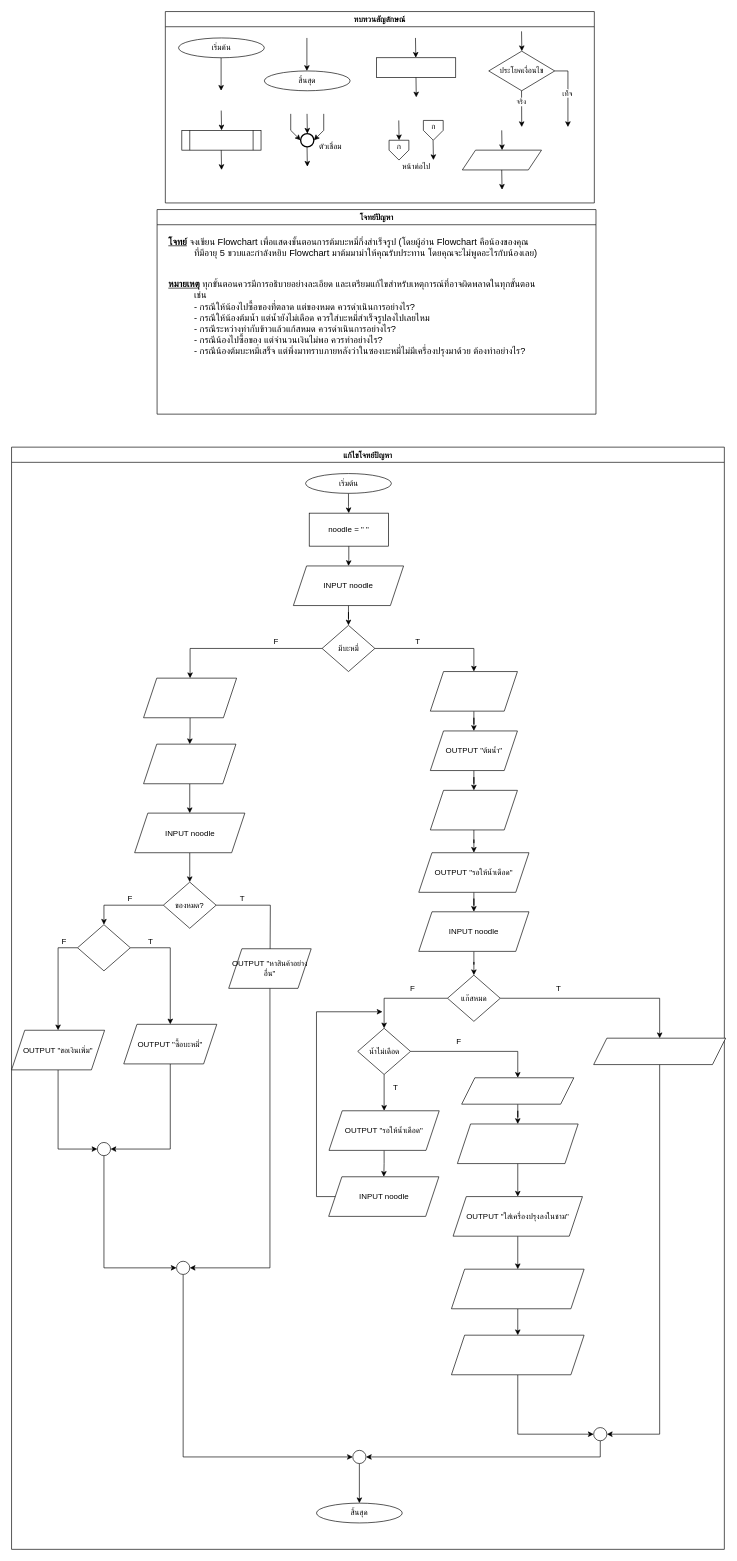
The diagram is 737 pixels wide and 1561 high, and some of its shapes have lost their labels. Here are the shapes that lost their labels. From the top down, the centre of each, then its label:
[416,67]: กระบวนการ
[221,140]: ฟังก์ชัน/โมดูล
[502,159]: แสดงผล/รับค่า
[190,697]: OUTPUT "ขอเงินจากผู้ใหญ่"
[473,691]: OUTPUT "เติมน้ำ"
[189,763]: OUTPUT "ไปซื้อของที่ตลาด"
[473,810]: OUTPUT "เปิดแก๊ส"
[103,947]: เงินพอ?
[659,1051]: OUTPUT "ขอความช่วยเหลือจากผู้ใหญ่"
[517,1090]: OUTPUT "เอาบะหมี่ออกจากหม้อ"
[517,1143]: OUTPUT "ใส่บะหมี่ลงในชาม"
[517,1289]: OUTPUT "ปิดแก๊ส"
[517,1355]: OUTPUT "ตักบะหมี่ใส่ชาม"
